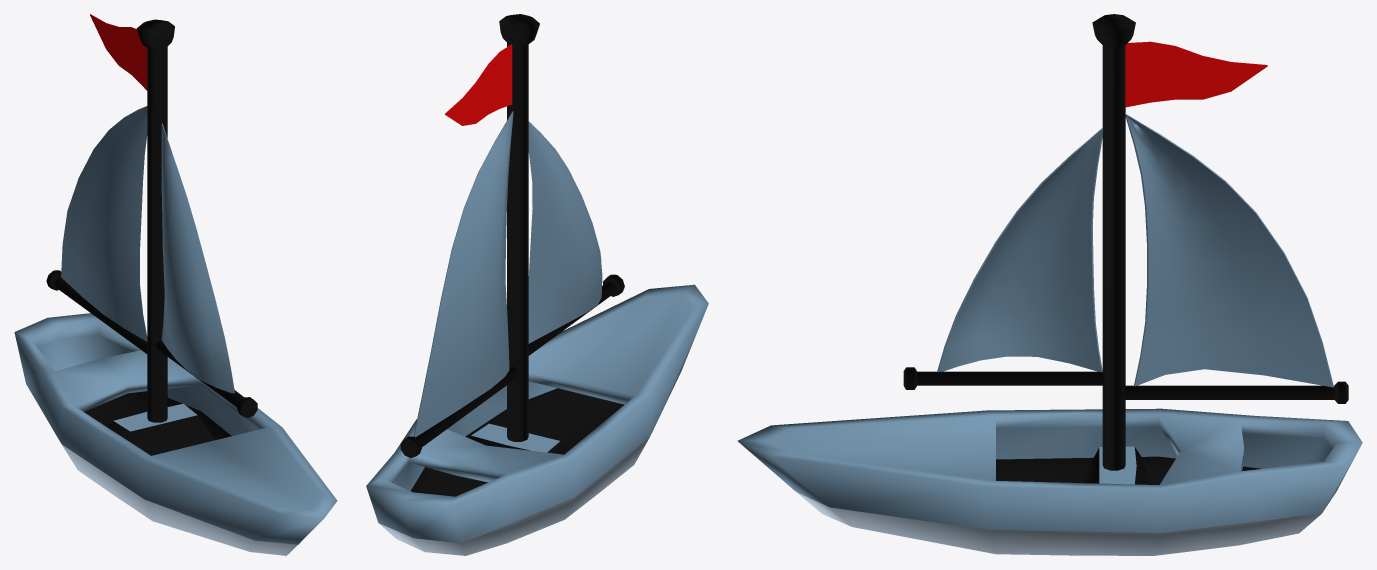
The model's file is Yacht.FBX.
3 renders of one model, left to right at view 1: azimuth 30°, elevation 25°; view 2: azimuth 150°, elevation 25°; view 3: azimuth 270°, elevation 25°, orthographic. The views are drawn at different scales.
Parts seen in each view (by area): view 1: Object004; view 2: Object004; view 3: Object004.
Boxes of the visible parts, x1,y1,x2,y2 form: Object004: [14, 14, 337, 555]; Object004: [366, 14, 708, 555]; Object004: [737, 14, 1362, 555].
Size of the model in its own units: 46.6 by 133 by 150.
